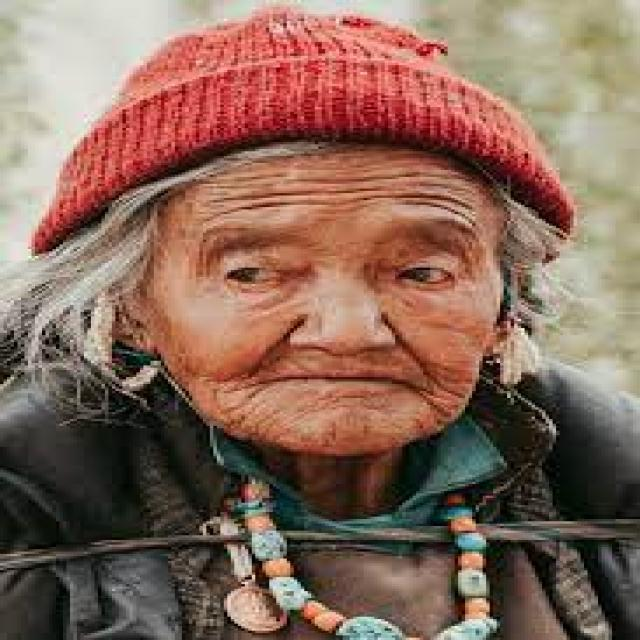Wrinkles: (205, 170, 497, 200), (202, 193, 475, 224), (384, 313, 474, 401), (207, 182, 478, 202), (207, 380, 275, 415), (398, 202, 478, 227), (408, 385, 456, 419)
